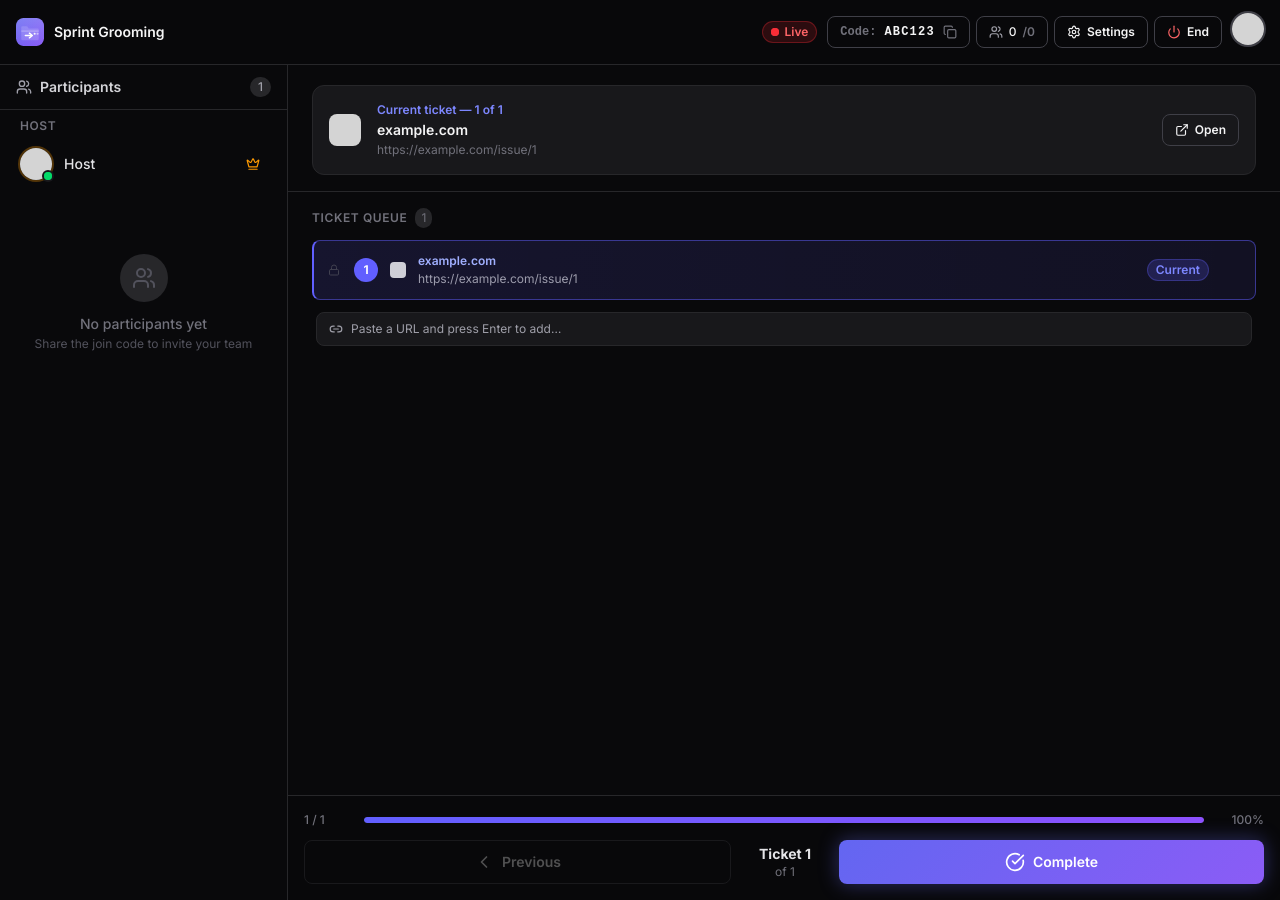
it: HostDashboard — settings modal › opens the settings modal when Settings is clicked
Click the button titled "session settings": point(1101, 32) [1054, 16, 1148, 48]
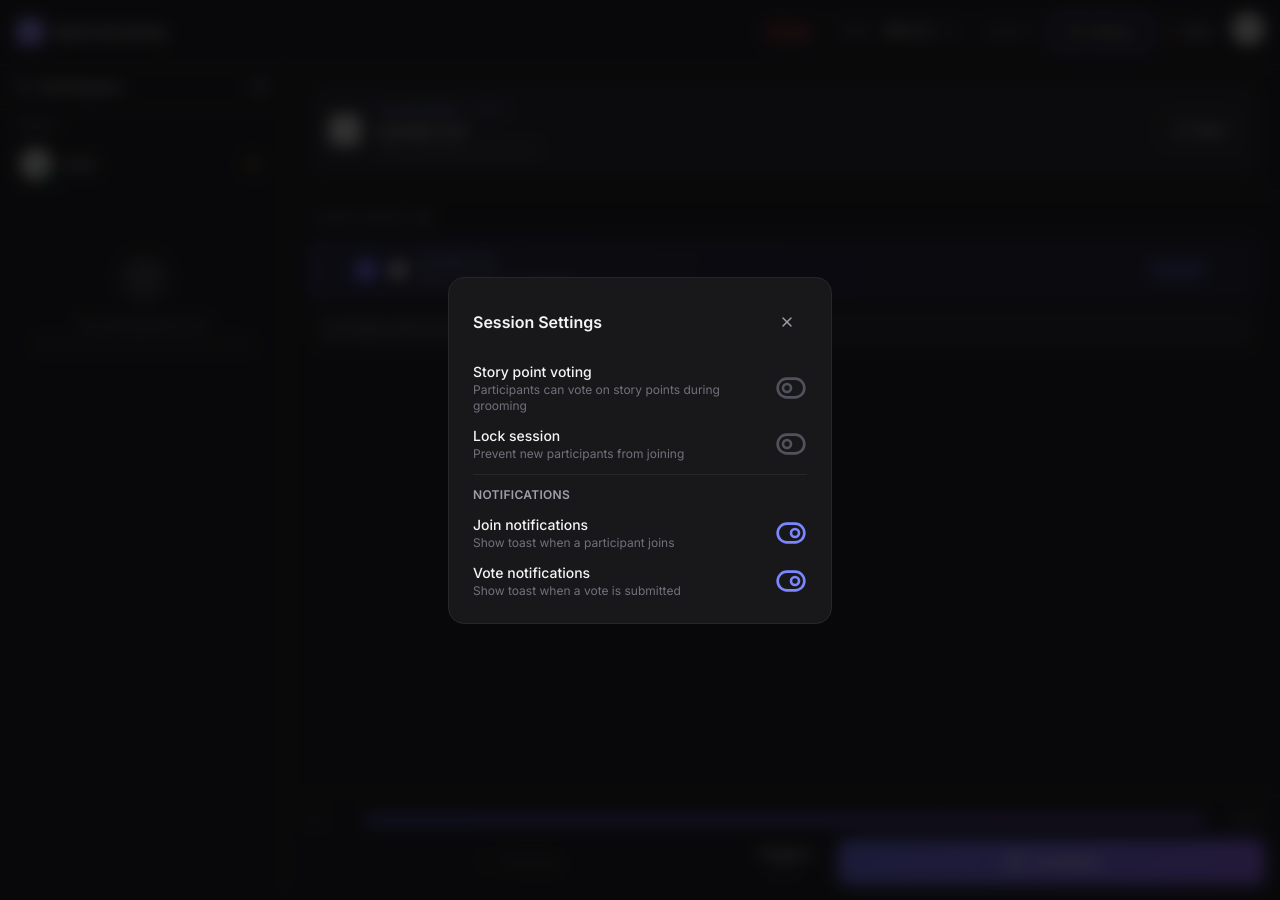
Check: the heading "Session Settings" is shown, box [473, 310, 602, 334]
Check: the text "Story point voting" is shown, box [473, 362, 592, 380]
Check: the text "Lock session" is shown, box [473, 426, 560, 444]
